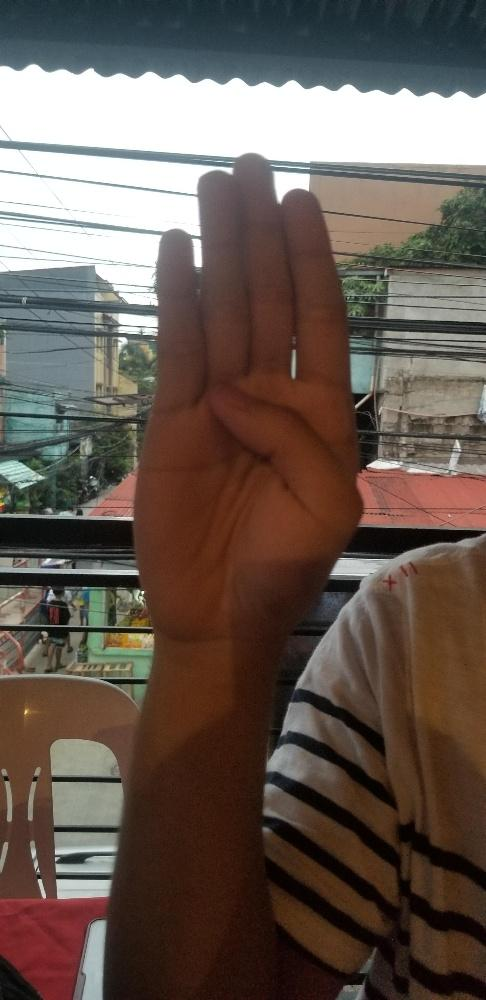b: (129, 150, 364, 636)
